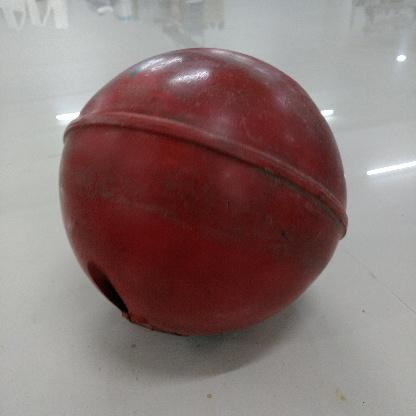red_buoy: (53, 40, 352, 347)
